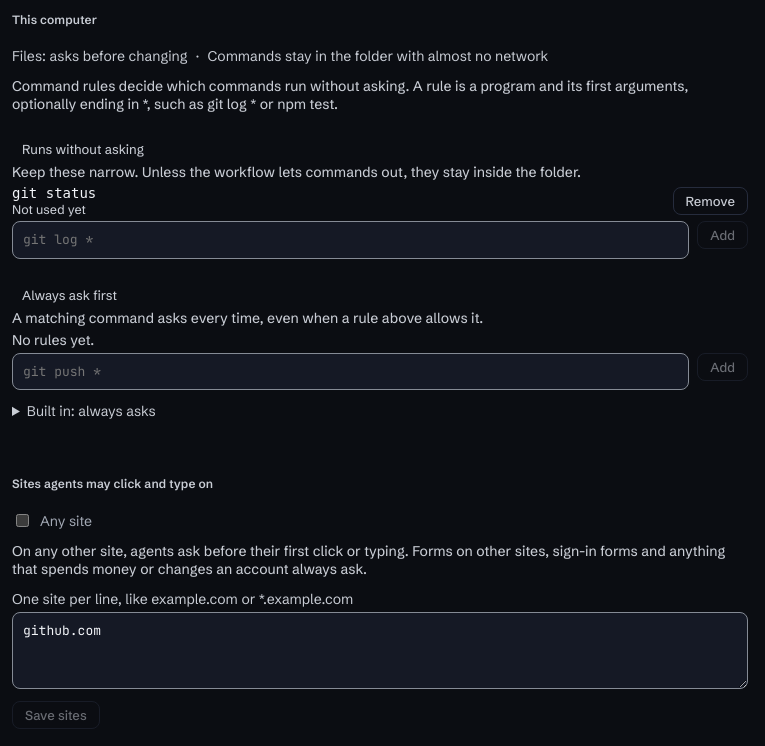
Test: ActionRulesSection: browser sites › “Any site” saves the any-site entry and hides the list; off brings it back
Click the checkbox labelled "Any site" at (22, 520), box x1=16 y1=514 x2=29 y2=527
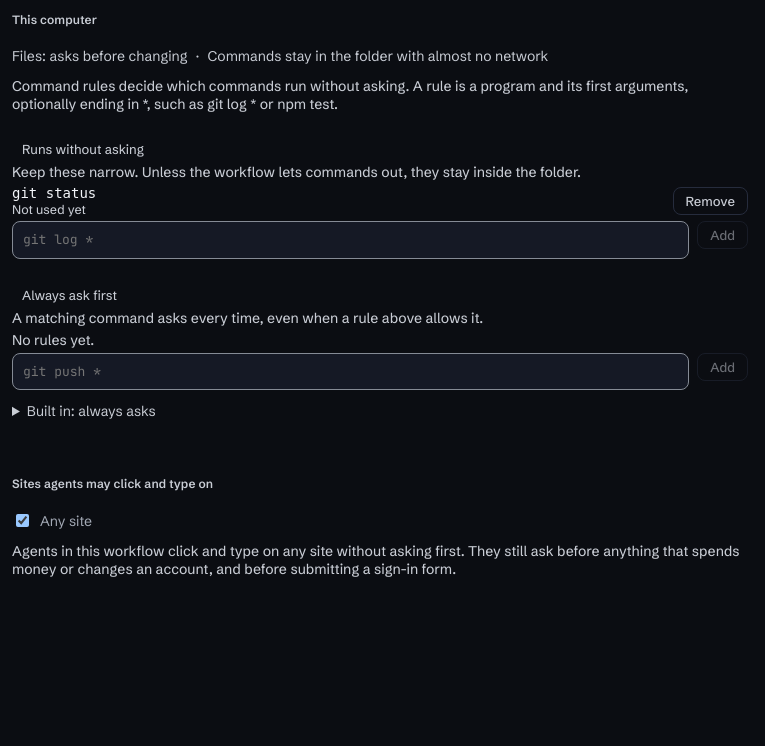
Check: the text "One site per line" is gone
Check: the text "without asking first" is shown, box x1=12 y1=542 x2=740 y2=578
Click the checkbox labelled "Any site" at (22, 520), box x1=16 y1=514 x2=29 y2=527
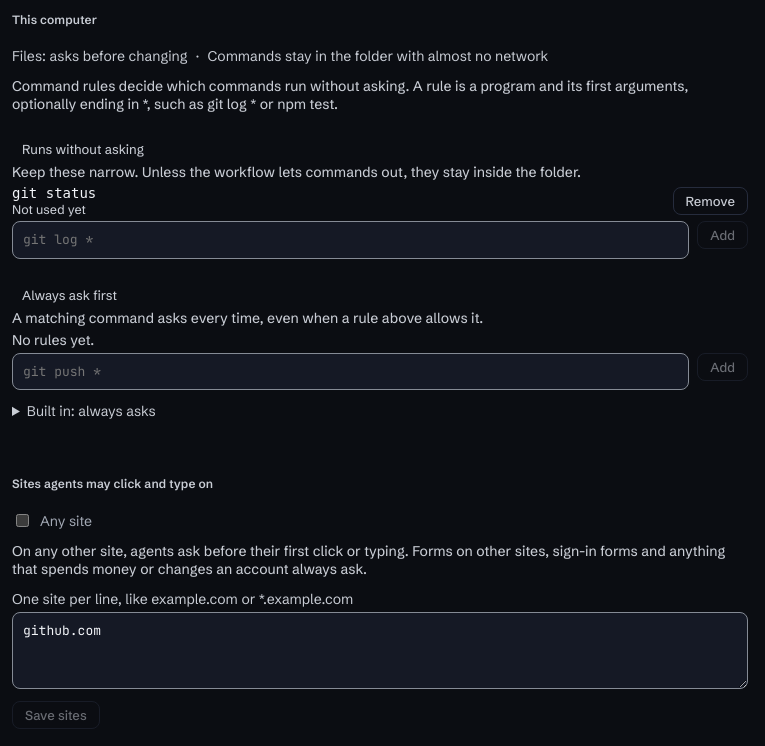
Check: the text box labelled "One site per line, like example.com or *.example.com" holds "github.com", box x1=12 y1=612 x2=748 y2=688
